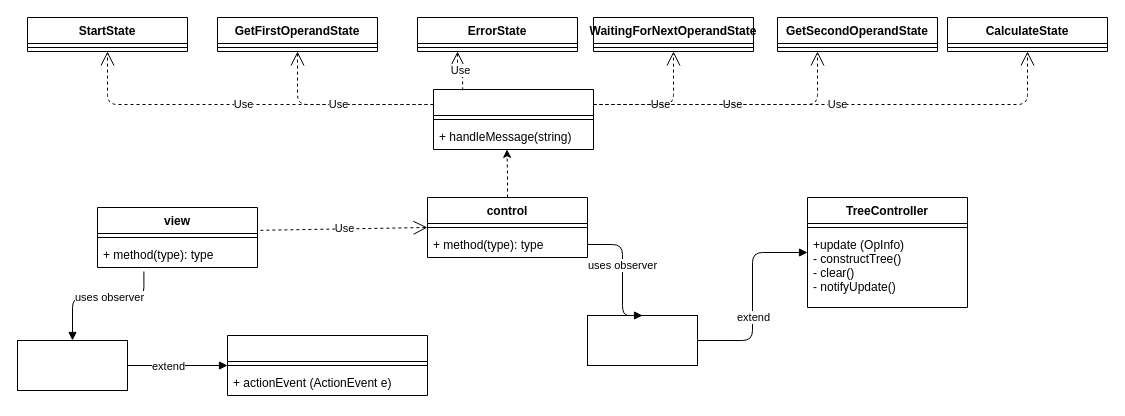
This 1125x416 diagram has some shape labels left out. The box of each missing label's shape, as (x1, y1, x2, y2) in pixels:
ActionListener: (16, 340, 128, 390)
CalculatorViewListener: (226, 334, 428, 396)
IOpObserver: (586, 314, 698, 366)
StateSystem: (432, 88, 594, 150)
